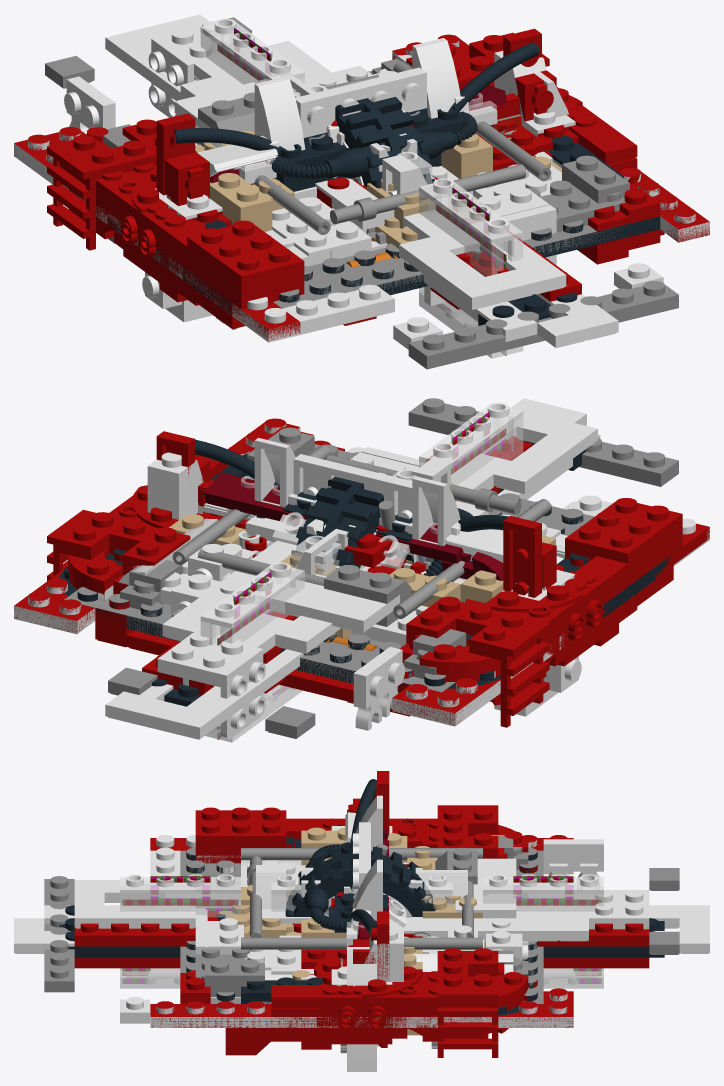
File: kombi-orange-final.glb
3 renders of one model, top to bottom at view 1: azimuth 30°, elevation 25°; view 2: azimuth 150°, elevation 25°; view 3: azimuth 270°, elevation 25°, orthographic. The views are drawn at different scales.
Visible parts, largest first — view 1: s233_m0, s079_m1, s231_m0, s260_m0, s060_m0, s257_m0, s253_m0, s092_m0, s352_m0, s061_m2, s375_m1, s319_m0 (+45 smaller); view 2: s233_m0, s079_m1, s231_m0, s092_m0, s260_m0, s355_m0, s253_m0, s352_m0, s319_m0, s061_m2, s125_m0, s060_m0 (+46 smaller); view 3: s253_m0, s079_m1, s174_m0, s231_m0, s233_m0, s092_m0, s060_m0, s184_m0, s352_m0, s257_m0, s355_m0, s260_m0 (+45 smaller).
Part boxes in pixels (x1,y1,x2,y2): s233_m0: (148, 21, 503, 309); s079_m1: (78, 43, 664, 314); s231_m0: (200, 18, 523, 358); s260_m0: (45, 17, 678, 369); s060_m0: (14, 40, 709, 342); s257_m0: (159, 28, 566, 302); s253_m0: (201, 19, 523, 358); s092_m0: (47, 32, 549, 250); s352_m0: (108, 61, 551, 329); s061_m2: (14, 34, 709, 340); s375_m1: (254, 38, 460, 179); s319_m0: (273, 71, 648, 308); s233_m0: (157, 421, 597, 739); s079_m1: (68, 498, 682, 696); s231_m0: (200, 402, 523, 742); s092_m0: (47, 509, 549, 727); s260_m0: (108, 398, 678, 738); s355_m0: (171, 447, 493, 632); s253_m0: (200, 402, 522, 742); s352_m0: (172, 445, 551, 618); s319_m0: (64, 493, 594, 692); s061_m2: (14, 418, 709, 725); s125_m0: (105, 406, 600, 731); s060_m0: (14, 424, 709, 726); s253_m0: (120, 874, 603, 988); s079_m1: (195, 807, 528, 1055); s174_m0: (74, 911, 649, 968); s231_m0: (120, 874, 603, 988); s233_m0: (74, 880, 649, 941); s092_m0: (225, 805, 498, 1057); s060_m0: (150, 835, 573, 1027); s184_m0: (271, 818, 449, 1041); s352_m0: (241, 848, 482, 1048); s257_m0: (74, 889, 649, 928); s355_m0: (195, 858, 528, 960); s260_m0: (44, 868, 679, 992).
Size of the model in its own units: 3880 by 1835 by 6029.
